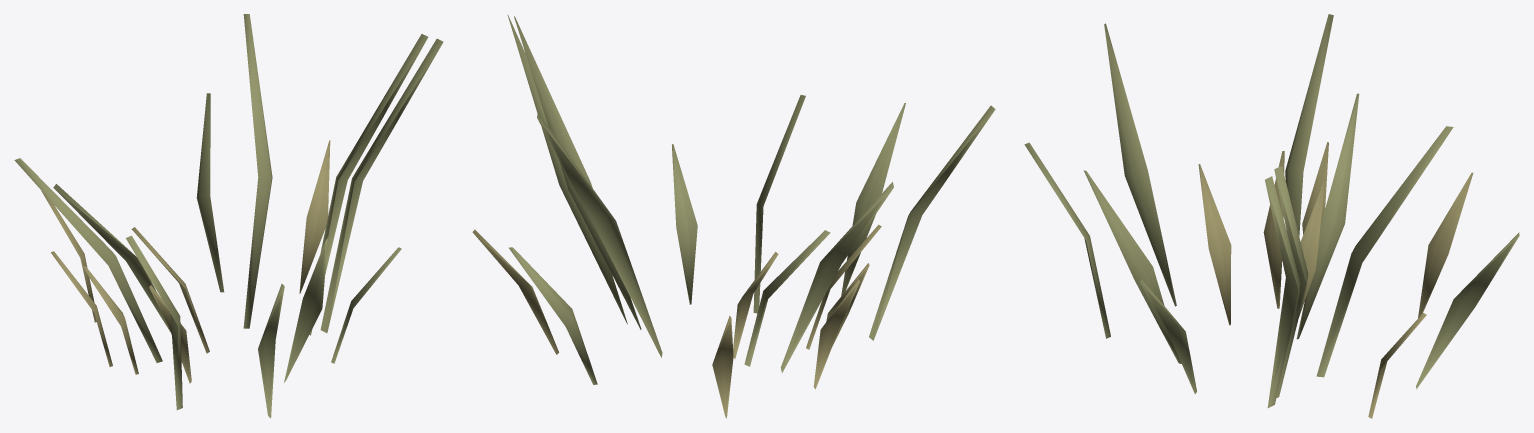
Rendered from Graminees_0.fbx.
The picture shows the model from 3 angles, left to right: view 1: azimuth 30°, elevation 25°; view 2: azimuth 150°, elevation 25°; view 3: azimuth 270°, elevation 25°; orthographic projection. The views are drawn at different scales.
Parts seen in each view (by area): view 1: Graminees_0; view 2: Graminees_0; view 3: Graminees_0.
Part boxes in pixels (left/top/right/bottom): Graminees_0: left=14, top=14, right=443, bottom=418; Graminees_0: left=472, top=14, right=995, bottom=418; Graminees_0: left=1024, top=14, right=1519, bottom=418.
Size of the model in its own units: 48.92 by 31.76 by 48.04.
